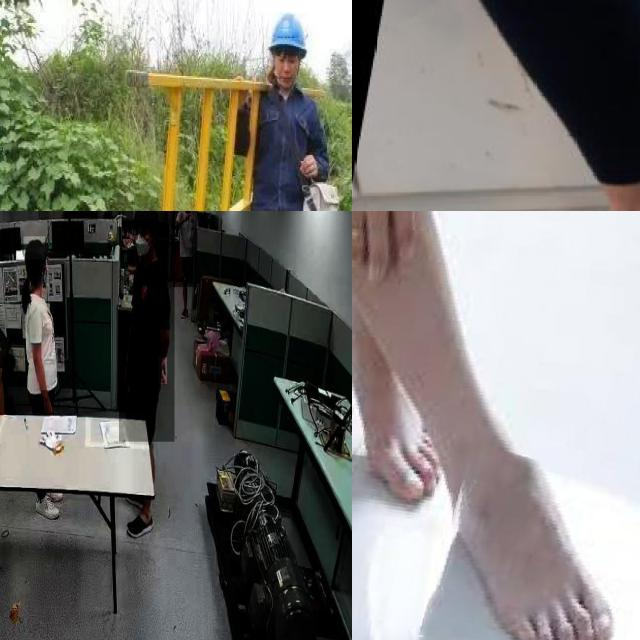Barefoots: (448, 463, 633, 640)
face_mask: (134, 226, 154, 266)
hand_noglove: (40, 390, 52, 415), (158, 357, 168, 385)
head_nohelmet: (24, 237, 46, 260), (133, 211, 159, 220)
person: (119, 211, 175, 442), (18, 252, 62, 412), (173, 211, 198, 288), (273, 52, 297, 68)
shoes: (120, 504, 156, 542), (31, 490, 61, 520)
